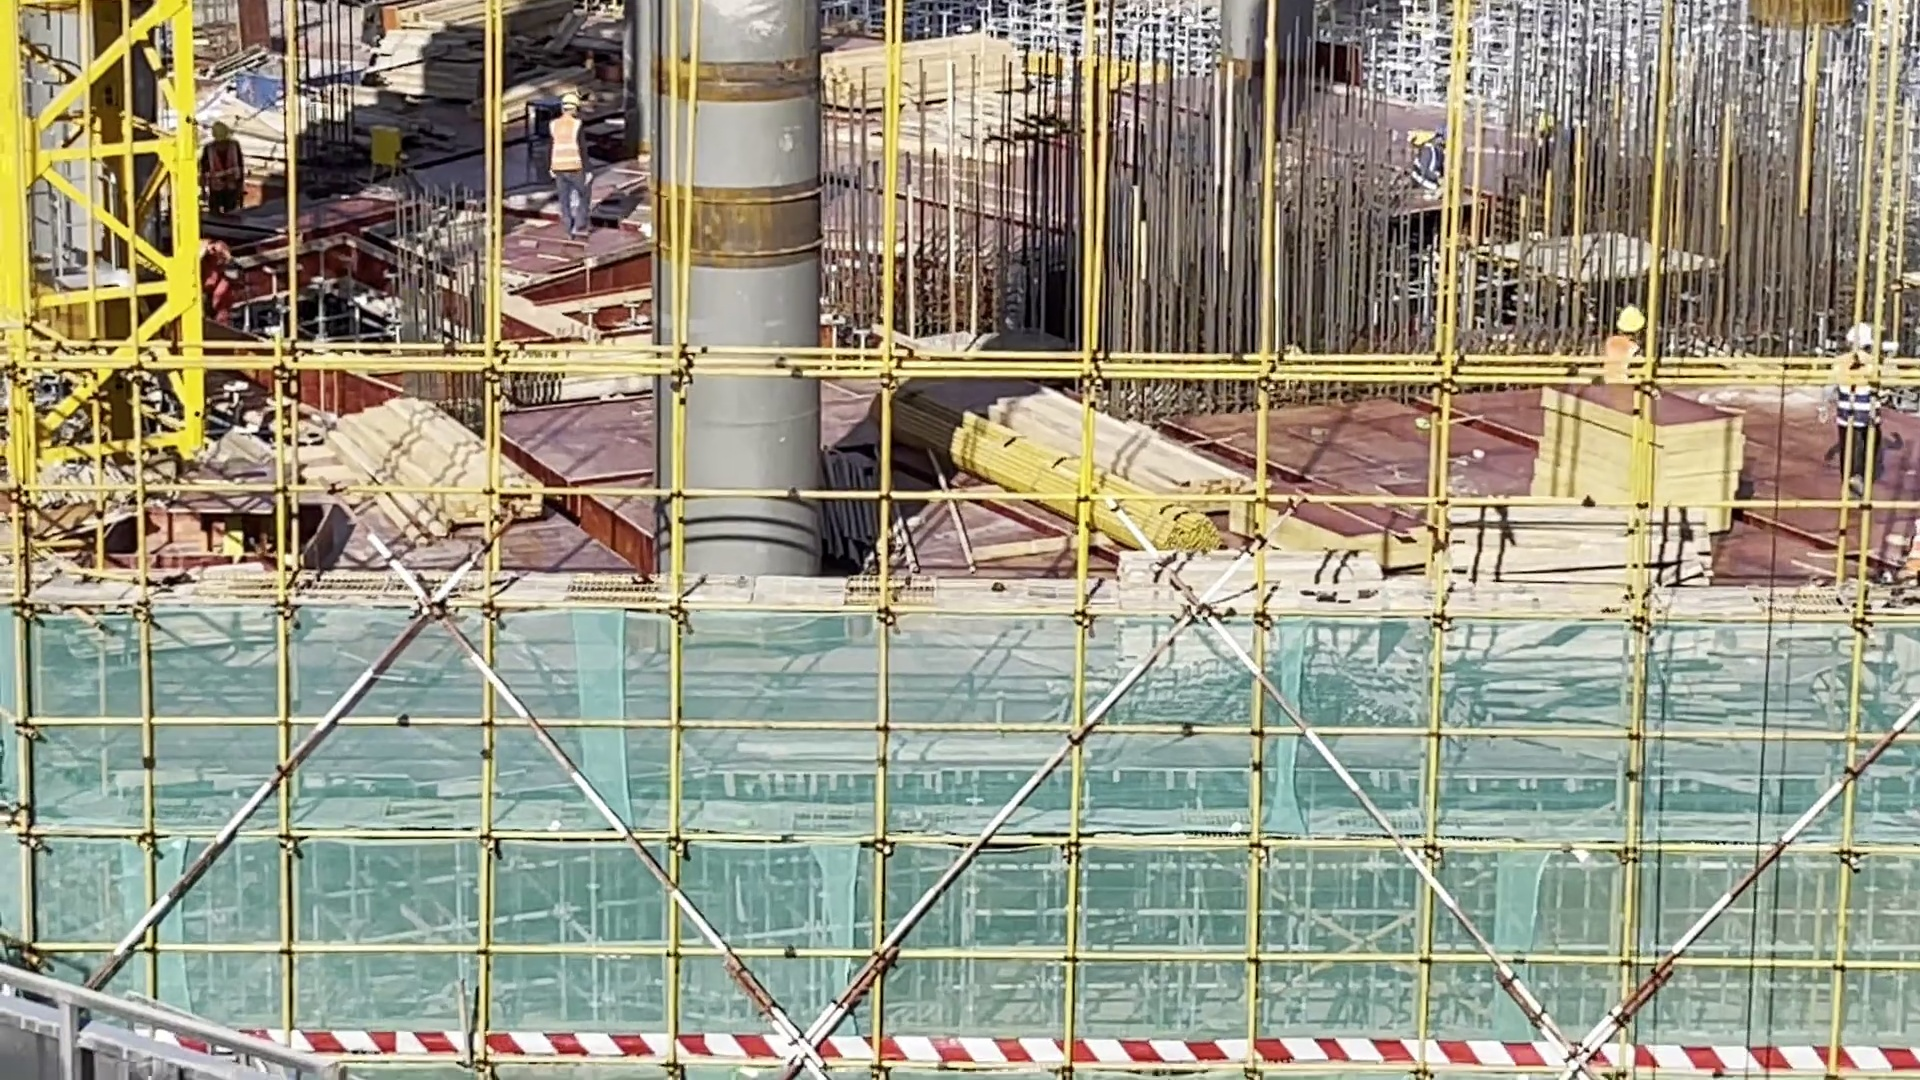board: (1544, 377, 1744, 533), (382, 1, 490, 97)
helmet: (1619, 303, 1648, 329), (560, 96, 580, 114)
person: (1829, 326, 1890, 493), (539, 88, 598, 239), (1601, 300, 1643, 381)
vest: (1835, 349, 1881, 428), (546, 120, 585, 172)
wood: (951, 407, 1247, 550), (338, 391, 533, 520), (839, 39, 1046, 96)
